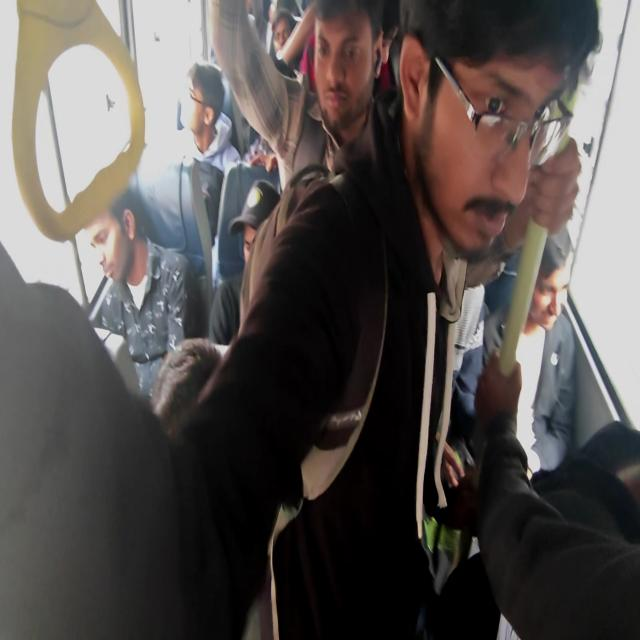person: (406, 9, 561, 265), (132, 350, 285, 582), (233, 189, 298, 351), (85, 148, 160, 286), (328, 0, 386, 149), (527, 211, 569, 357), (170, 78, 234, 156), (263, 18, 296, 92)
